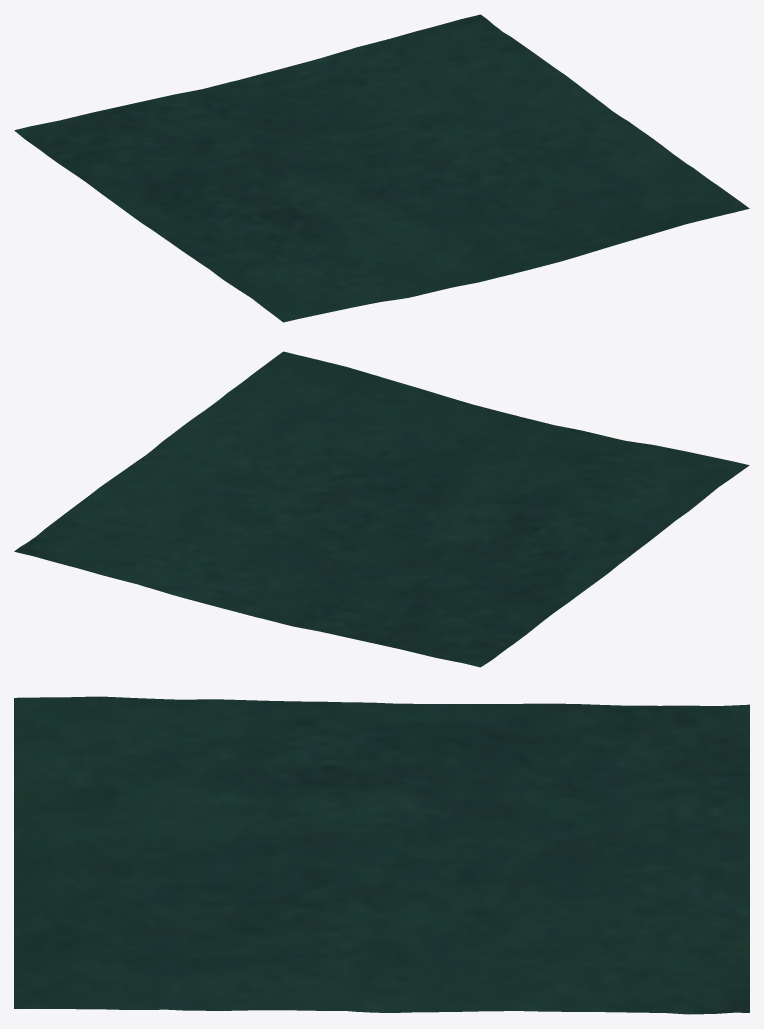
3 renders of one model, top to bottom at view 1: azimuth 30°, elevation 25°; view 2: azimuth 150°, elevation 25°; view 3: azimuth 270°, elevation 25°, orthographic. The views are drawn at different scales.
Size of the model in its own units: 52.22 by 1.15 by 52.22.
2 materials, 2 textured.
